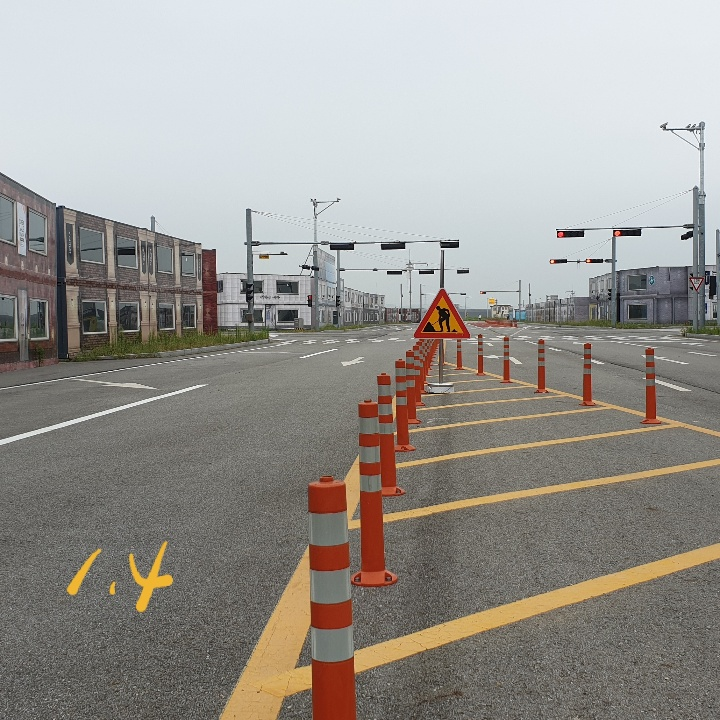const: (421, 298, 462, 333)
